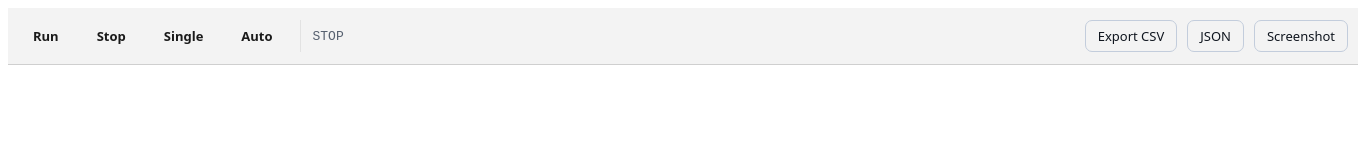
Test: ScopeToolbar › surfaces an oversized-export 413's detail instead of a generic failure
Step 1. Click the button "JSON" → (1216, 36), box left=1187, top=20, right=1244, bottom=52
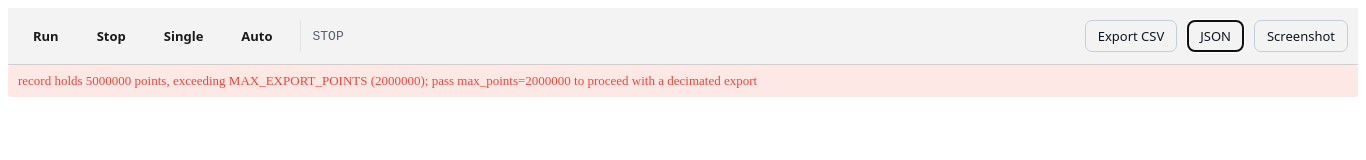
Now the message shows "record holds 5000000 points, exceeding MAX_EXPORT_POINTS (2000000); pass max_points=2000000 to proceed with a decimated export", box left=18, top=73, right=757, bottom=88
